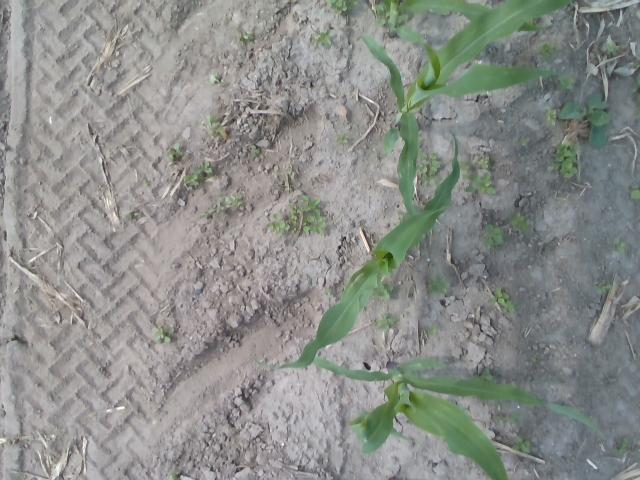Maize: (255, 130, 460, 369), (358, 0, 568, 216), (314, 356, 604, 480), (386, 2, 554, 45)
Weeds: (560, 92, 610, 150), (552, 141, 572, 169), (420, 152, 441, 175), (288, 202, 302, 234), (428, 275, 450, 295), (486, 223, 503, 248), (476, 174, 496, 194), (303, 214, 325, 232), (510, 212, 530, 230), (152, 326, 174, 342), (373, 1, 386, 26), (302, 194, 320, 212), (538, 40, 556, 58), (376, 314, 396, 330), (324, 0, 348, 13), (514, 436, 532, 452), (493, 286, 509, 304), (267, 214, 285, 230), (192, 161, 212, 175), (462, 156, 479, 172), (377, 284, 393, 300), (202, 114, 220, 128), (594, 280, 612, 293), (602, 42, 618, 56), (501, 300, 516, 314), (317, 30, 332, 44), (562, 160, 575, 176), (421, 172, 438, 184), (183, 174, 200, 186), (464, 175, 475, 193), (226, 194, 242, 206), (481, 152, 492, 168), (630, 181, 640, 198), (170, 144, 183, 157), (562, 76, 574, 90), (546, 108, 556, 124), (618, 437, 630, 449), (322, 286, 334, 298), (124, 208, 136, 220), (202, 208, 216, 218), (482, 368, 493, 380), (239, 32, 255, 40), (616, 240, 626, 252), (337, 133, 349, 143), (632, 77, 640, 92), (428, 323, 438, 334), (210, 74, 221, 84), (250, 148, 259, 160), (520, 136, 528, 147), (169, 472, 179, 480), (142, 180, 150, 187)
